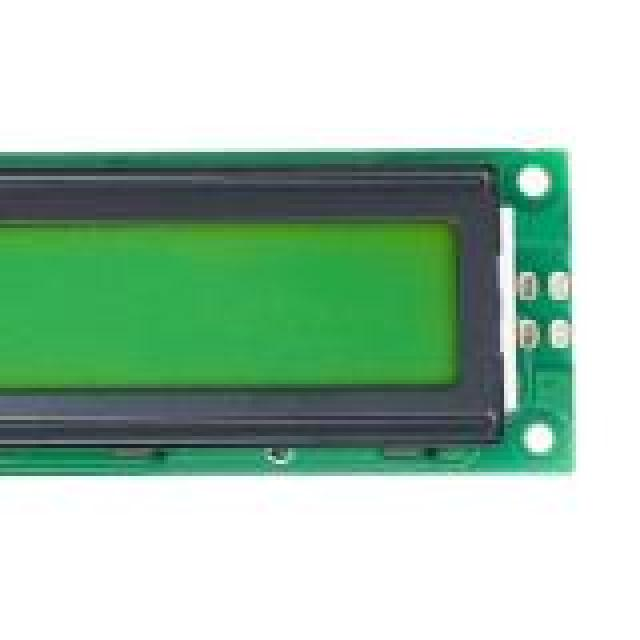display: (0, 172, 544, 448)
